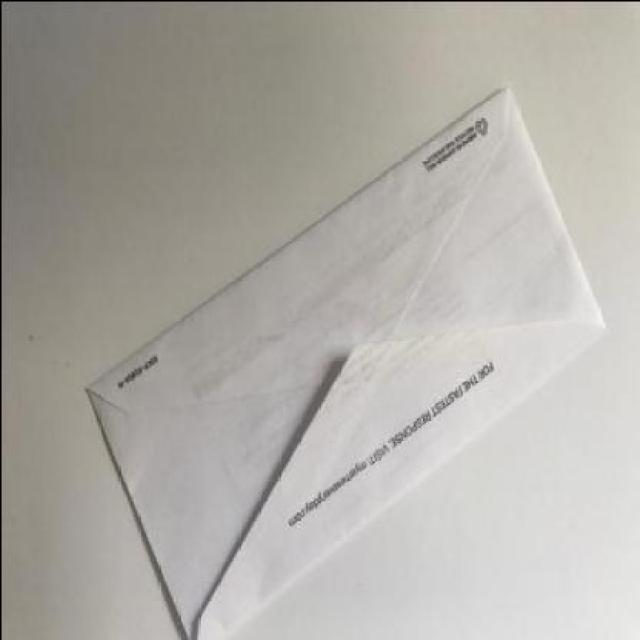paper: (83, 90, 606, 638)
